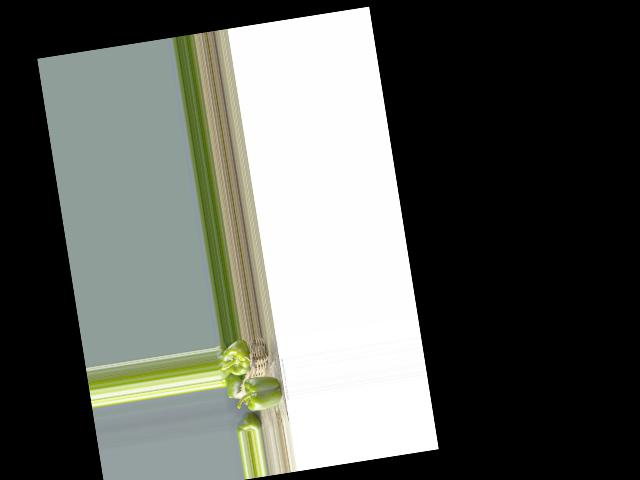bell_pepper: (236, 417, 258, 433)
